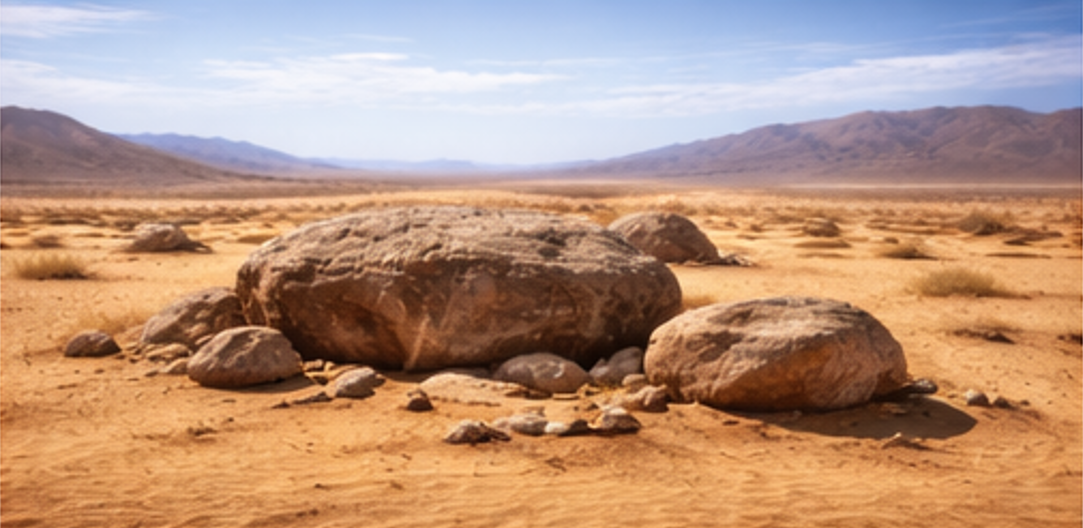rocks: (235, 207, 680, 368), (645, 297, 906, 410), (187, 327, 300, 385), (139, 286, 244, 348), (607, 213, 720, 263), (493, 352, 589, 391), (125, 223, 208, 251), (589, 347, 642, 385), (333, 367, 383, 396), (65, 330, 119, 355), (800, 218, 839, 236)
